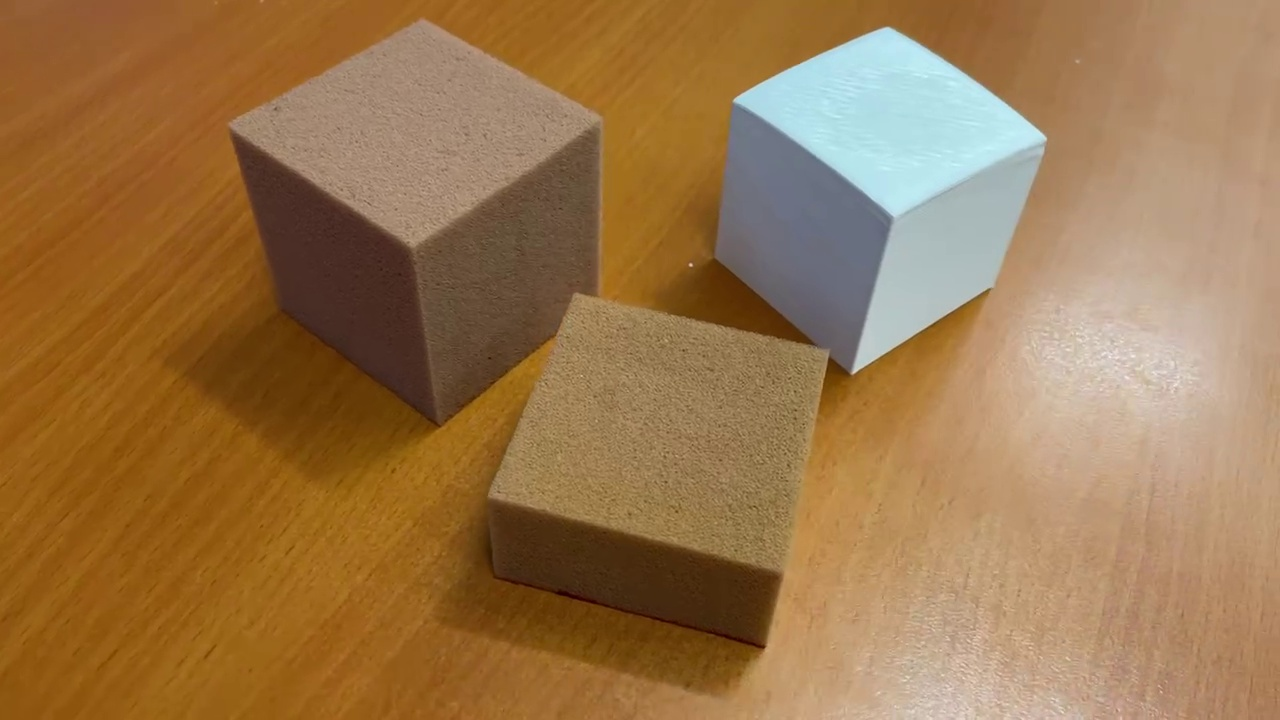Cube: (221, 12, 612, 432), (707, 22, 1049, 383)
Cube_short: (477, 283, 837, 655)
